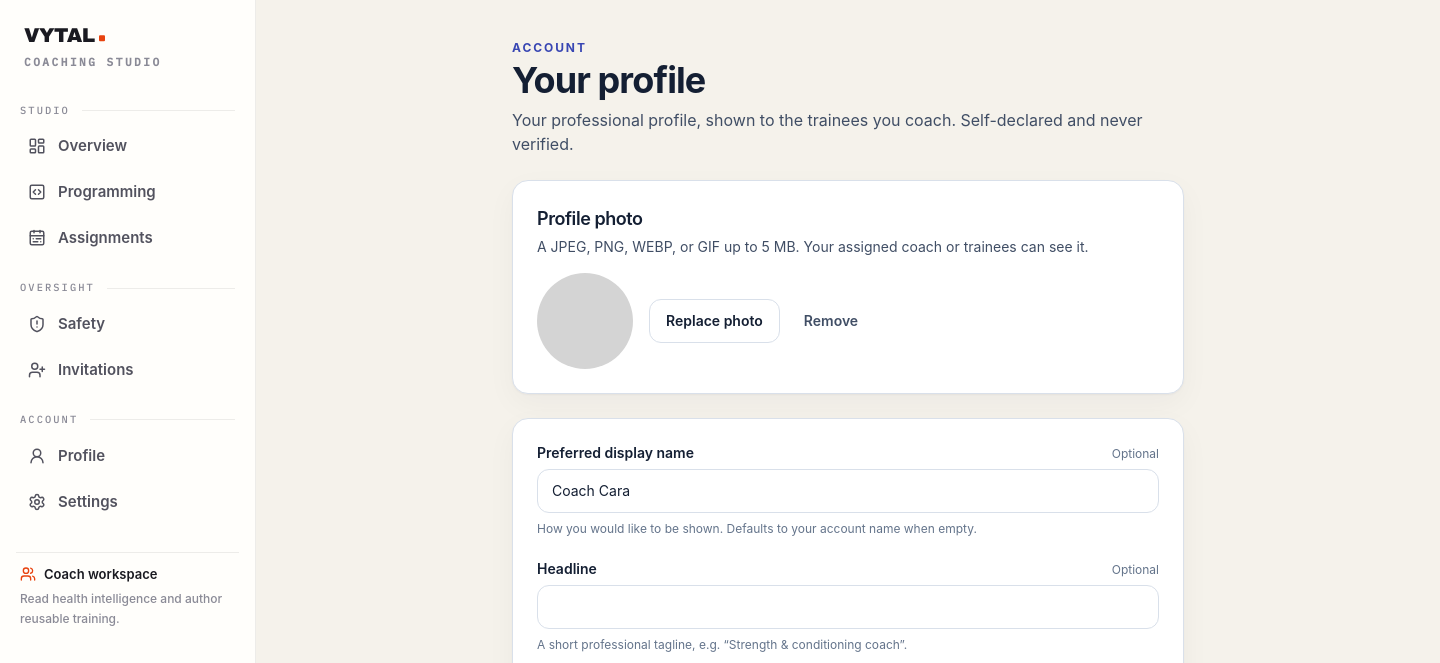
Scenario: removes an existing profile photo
Click the button "Remove" at (831, 321), box x1=788 y1=299 x2=874 y2=343
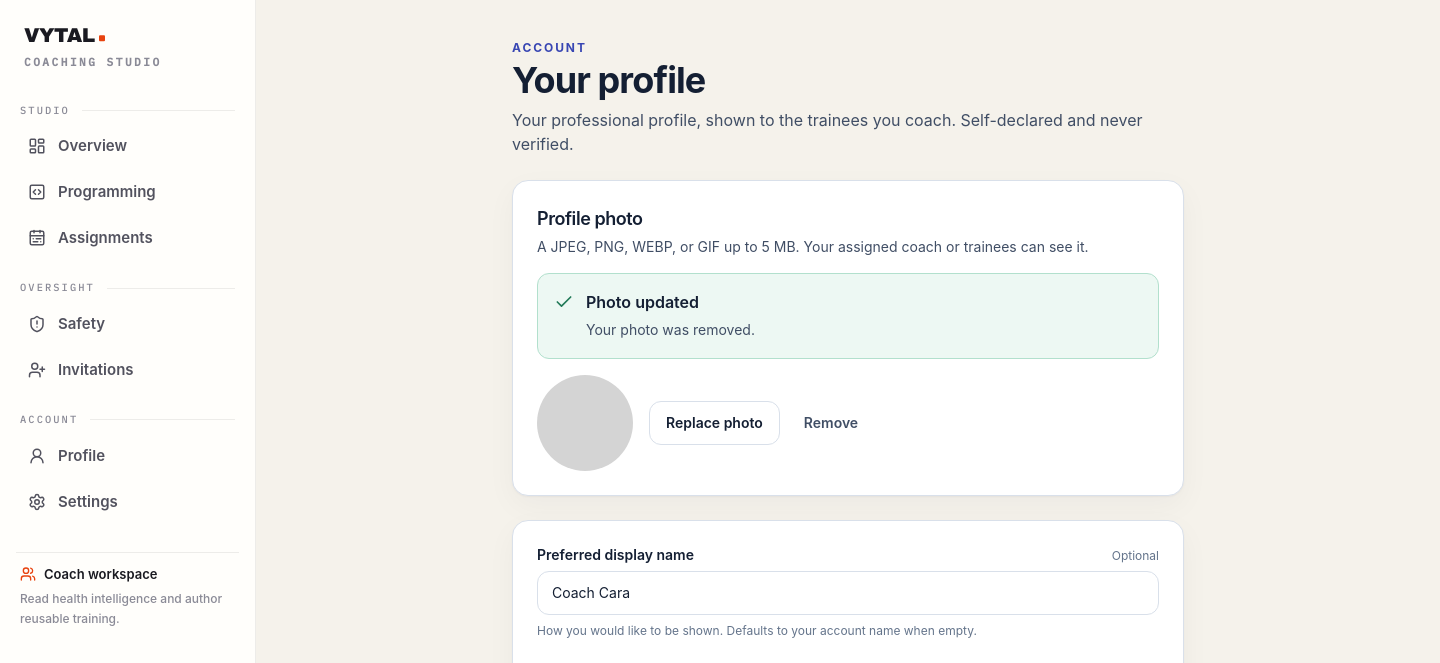
Check: the text "Your photo was removed." is shown, box x1=586 y1=321 x2=755 y2=338
